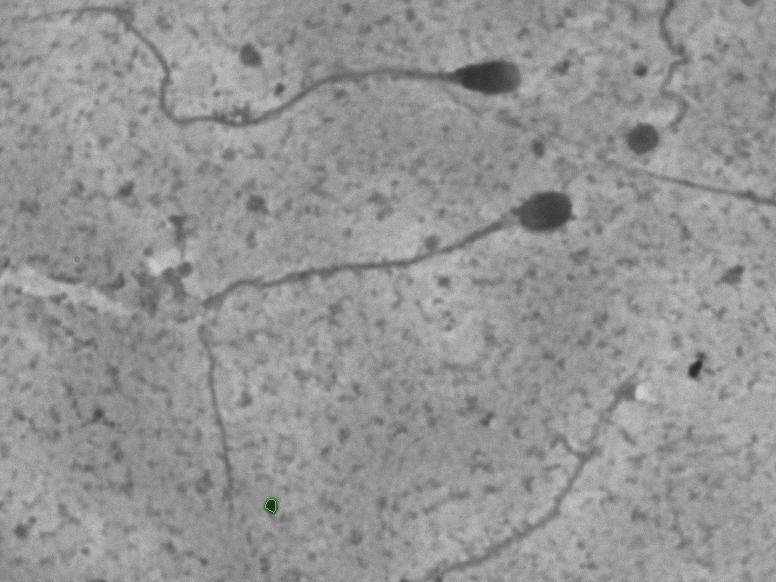Normal: (174, 170, 582, 520), (39, 4, 539, 125)
